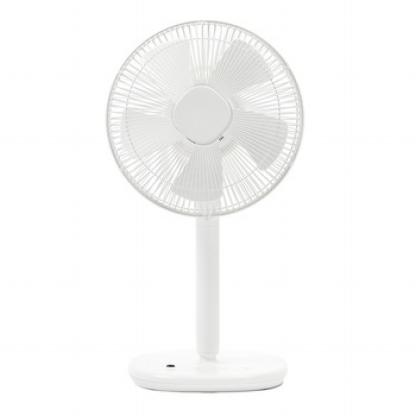fan: (102, 15, 309, 399)
